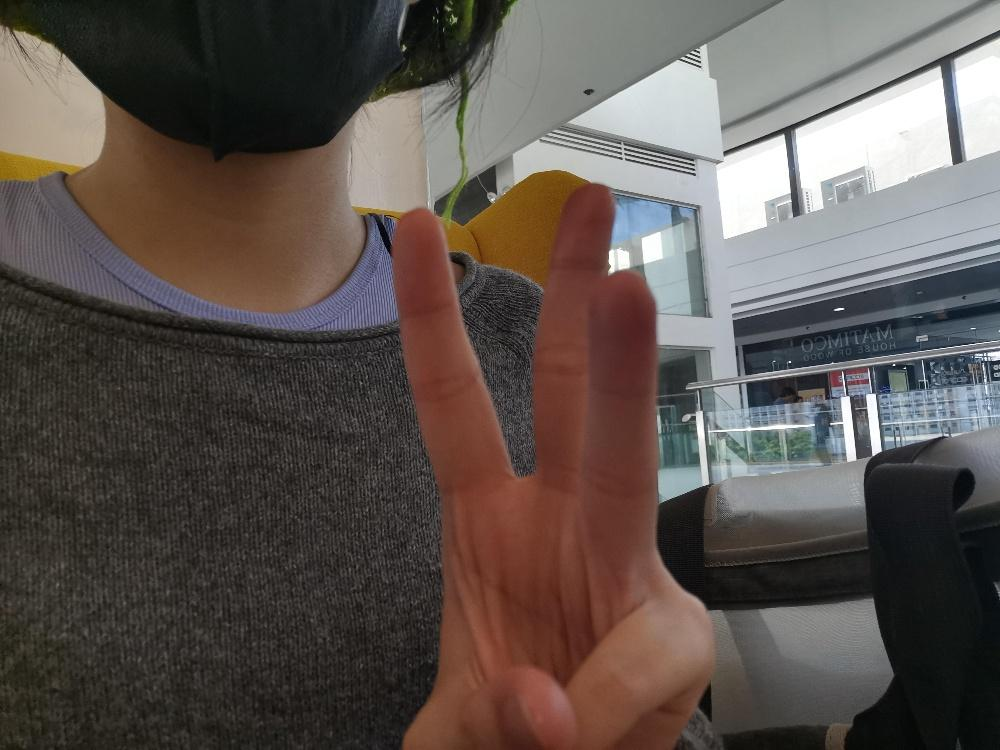w: (386, 179, 717, 749)
